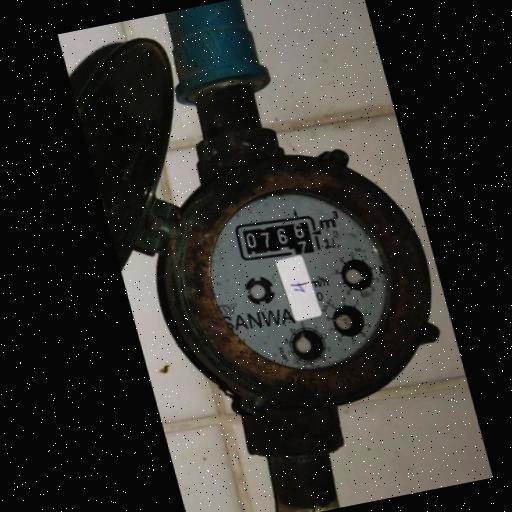0: (241, 229, 262, 255)
6: (286, 220, 315, 255), (269, 223, 295, 252)
7: (253, 226, 278, 255)
border_water_meter_number: (231, 210, 323, 266)
